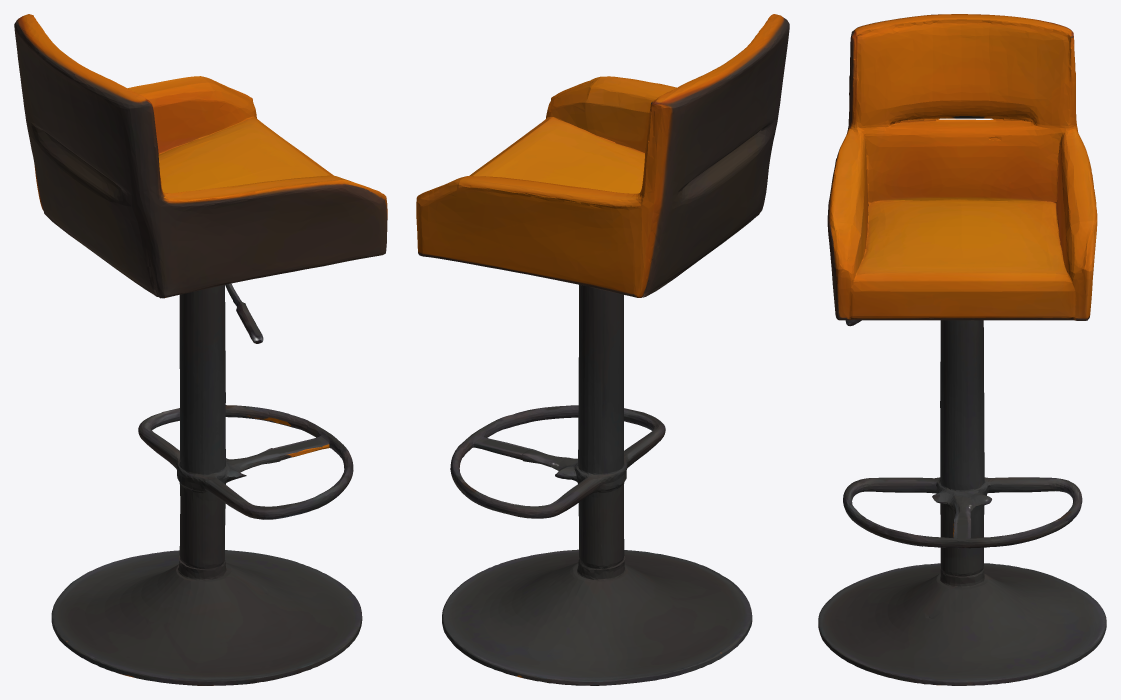
File: bar_stool_32.glb
3 renders of one model, left to right at view 1: azimuth 30°, elevation 25°; view 2: azimuth 150°, elevation 25°; view 3: azimuth 270°, elevation 25°, orthographic. The views are drawn at different scales.
Parts seen in each view (by area): view 1: bar_stool_32.obj; view 2: bar_stool_32.obj; view 3: bar_stool_32.obj.
Part boxes in pixels (<box>): bar_stool_32.obj: <box>14,14,387,685</box>; bar_stool_32.obj: <box>416,14,789,685</box>; bar_stool_32.obj: <box>818,14,1106,685</box>.
Bounding box in the file's own units: 0.5041 × 1 × 0.4787.
Materials: 1 (1 with a texture image).
